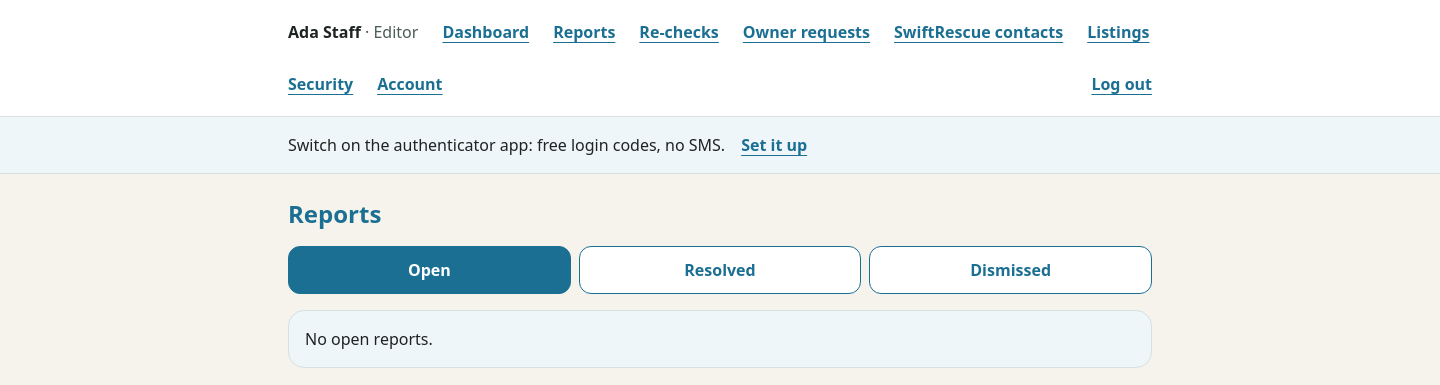
Scenario: the choice of status › says 'Resolved' has none when the list is empty
expect the text "No open reports." is shown: met, box top-left (288, 310), bottom-right (1152, 368)
Step 1. Click the button "Resolved" → (720, 270), box top-left (579, 246), bottom-right (861, 294)
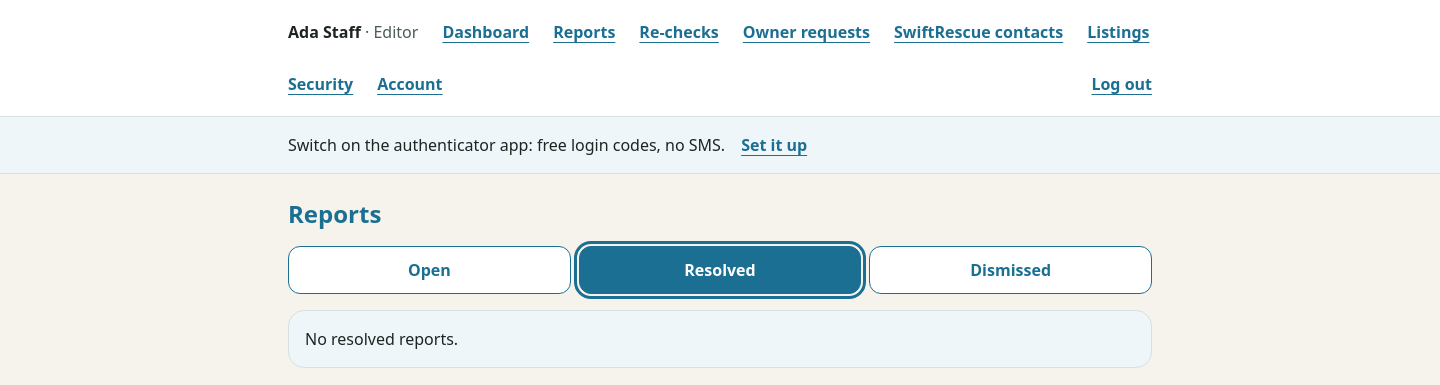
expect the text "No resolved reports." is shown: met, box top-left (288, 310), bottom-right (1152, 368)
